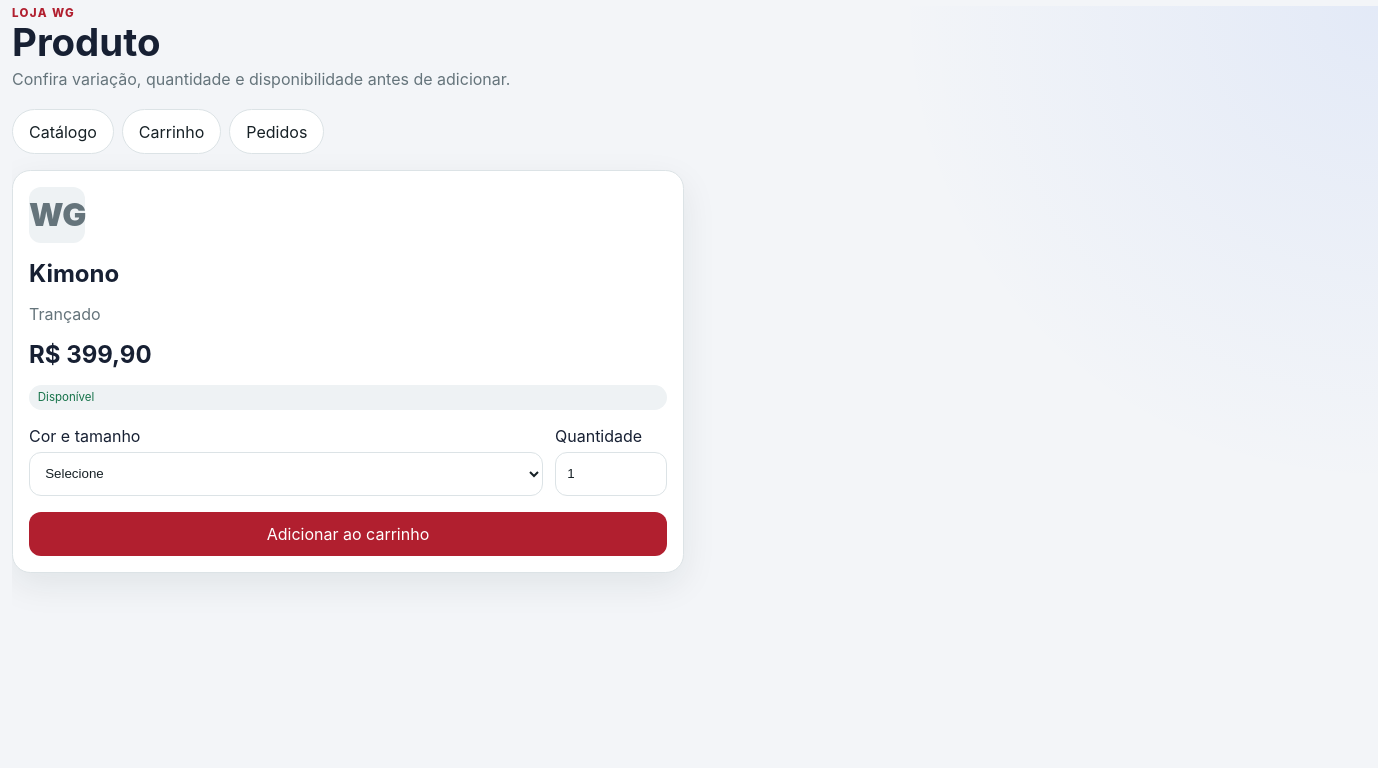
Test: student store pages › allows ACTIVE to add a product without sending price or studentId
Check: the button "Adicionar ao carrinho" is shown, box [29, 512, 667, 556]
Select "Preto · M" in the dropdown named "Variação". click: (286, 474)
box: [29, 452, 543, 496]
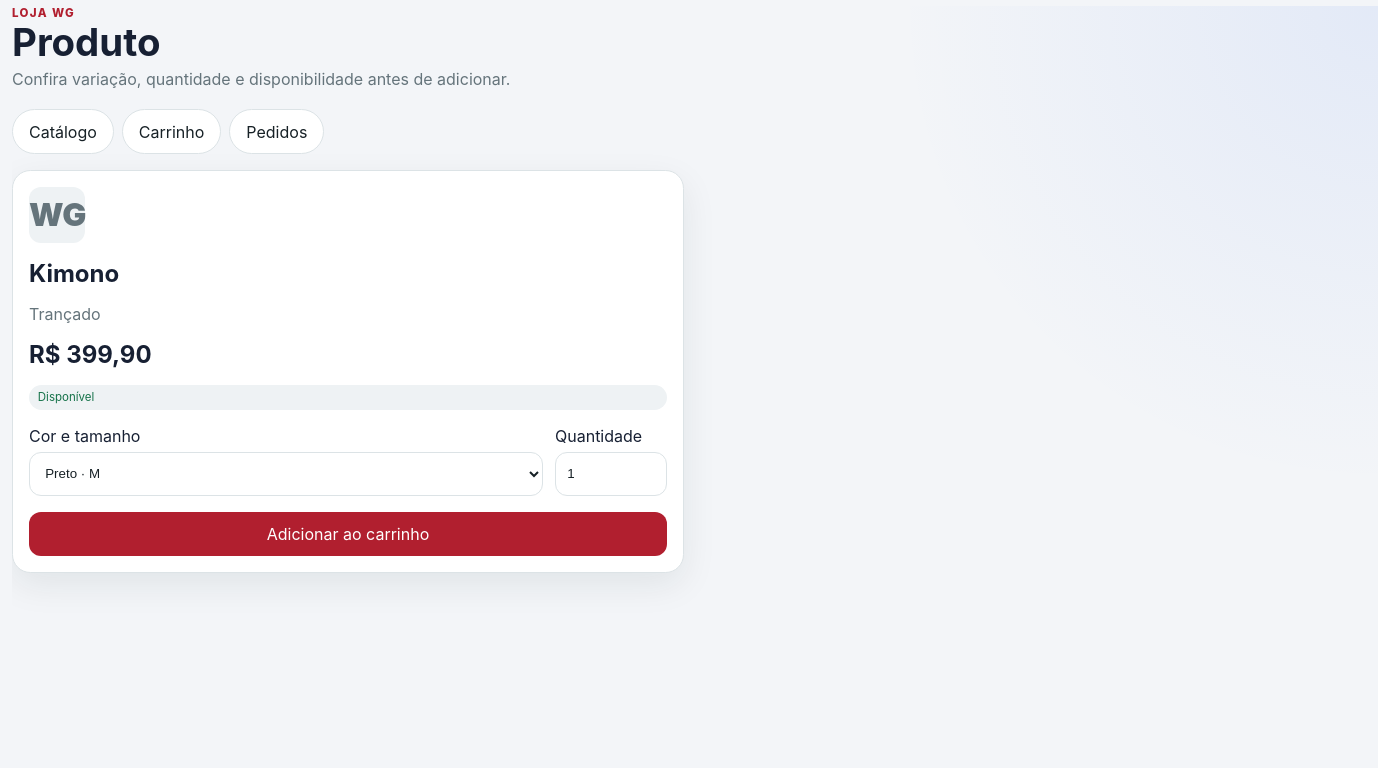
Click the button "Adicionar ao carrinho". click: (348, 534)
box: [29, 512, 667, 556]
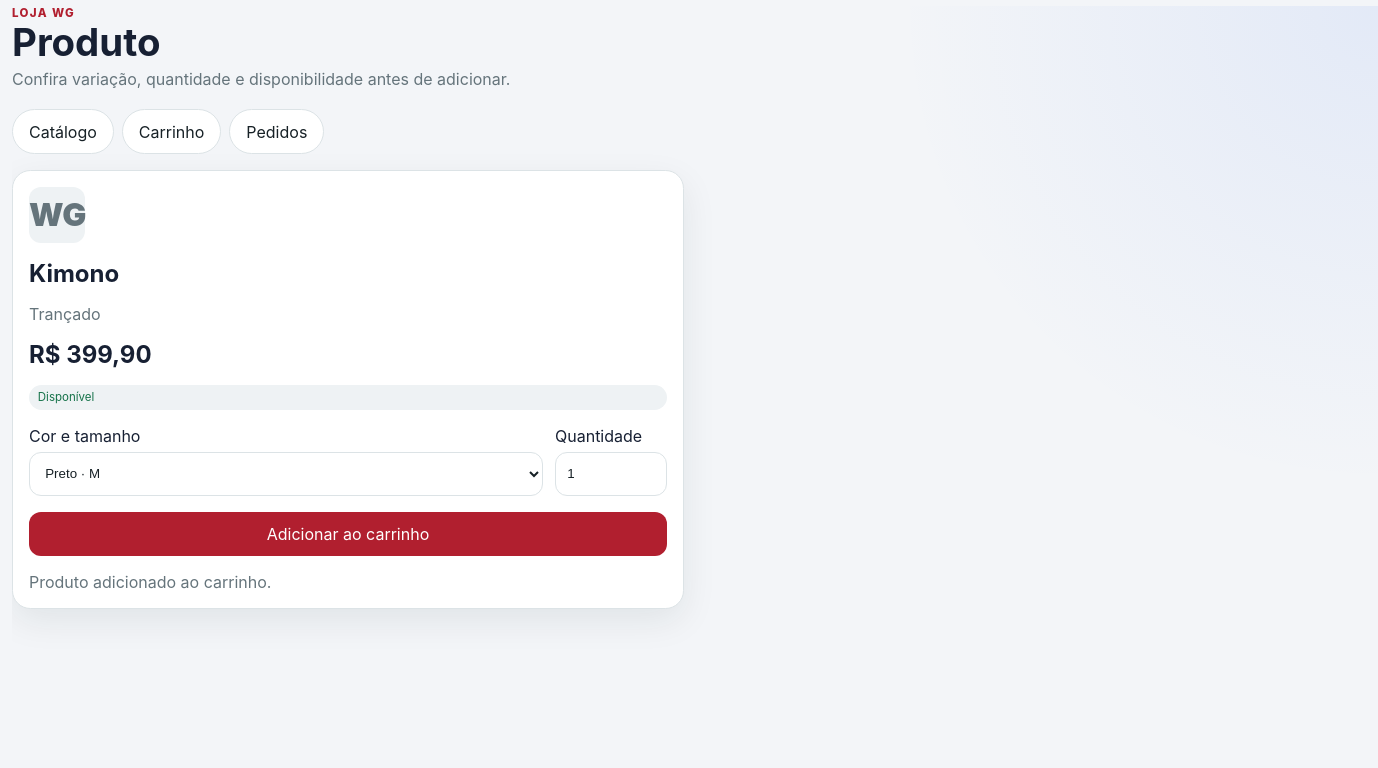
Check: the text "Produto adicionado ao carrinho." is shown, box [29, 572, 271, 592]
